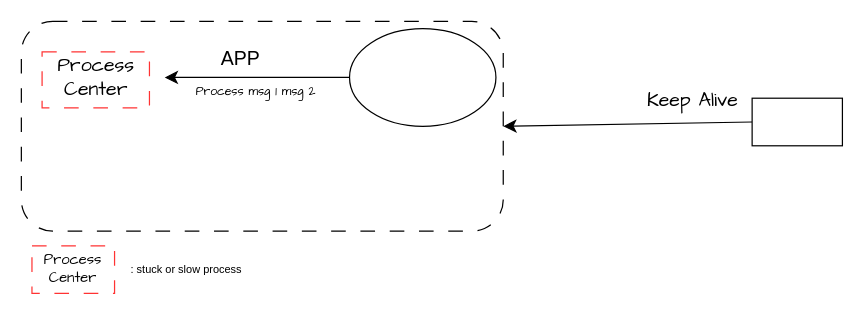
This 864x315 diagram has some shape labels left out. The centre of each missing label's shape, as x and y in pixels:
"Broker" goes at point 796,121.
"Consumer" goes at point 422,76.
